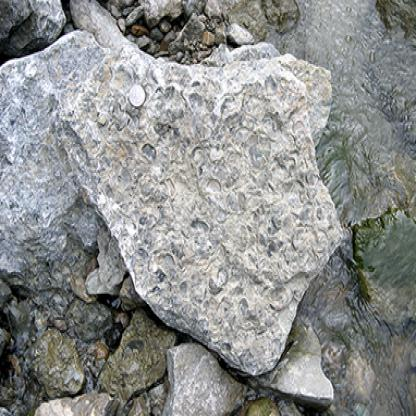Sedimentary_Limestone: (55, 11, 333, 383)
